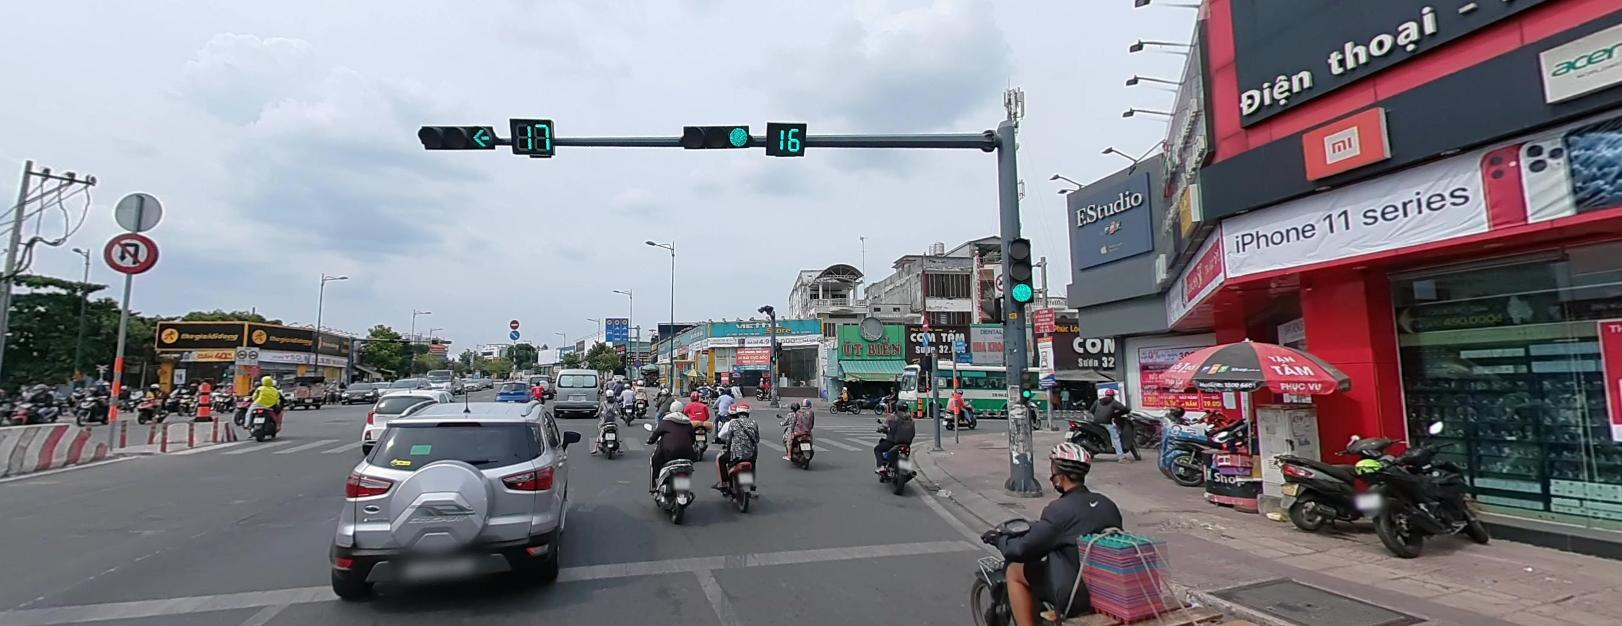Cam con lai: (995, 270, 1009, 289), (248, 348, 258, 357), (237, 348, 246, 356), (606, 317, 611, 322), (621, 317, 626, 322), (613, 318, 618, 323)
Cam dung va do: (633, 358, 641, 365)
Cam nguoc chieu: (921, 315, 929, 330), (508, 318, 518, 328)
Cam re: (101, 229, 161, 277)
Hieu lenh: (509, 328, 520, 338), (921, 330, 928, 344)
